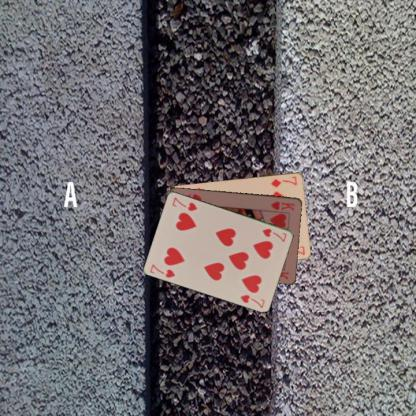7d: (268, 173, 298, 189)
7h: (147, 261, 177, 279), (259, 226, 288, 244)
Kh: (268, 198, 296, 212)
